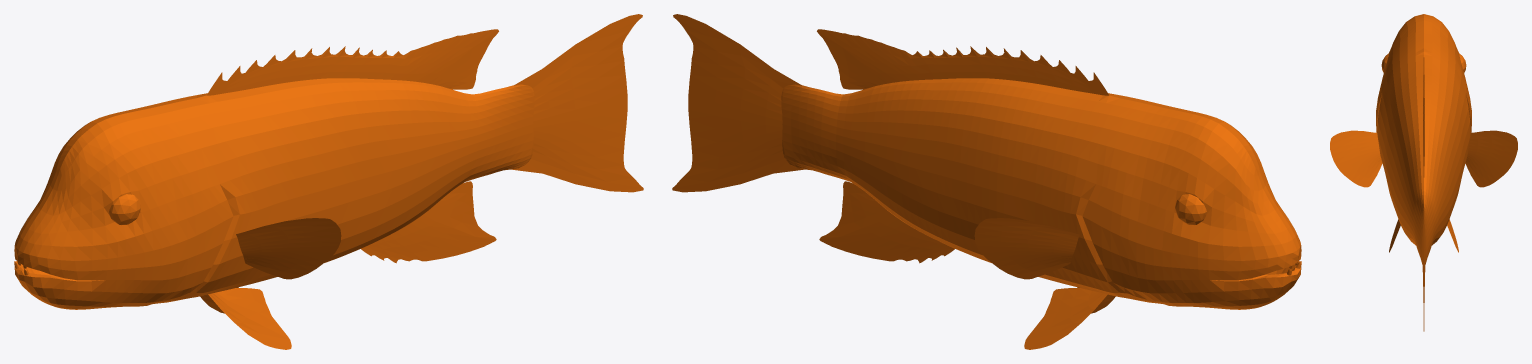
Rendered from Piraken.dae.
3 renders of one model, left to right at view 1: azimuth 30°, elevation 25°; view 2: azimuth 150°, elevation 25°; view 3: azimuth 270°, elevation 25°, orthographic. The views are drawn at different scales.
Visible parts, largest first — view 1: ___DUMMY_BODY01L, ___DUMMY_TAIL01L, ___DUMMY_BACK01L, ___DUMMY_HIP01L, ___DUMMY_BUST01L, ___DUMMY_WAIST01L, ___DUMMY_EYE01L; view 2: ___DUMMY_BODY01L, ___DUMMY_TAIL01L, ___DUMMY_BACK01L, ___DUMMY_HIP01L, ___DUMMY_BUST01R, ___DUMMY_WAIST01R, ___DUMMY_EYE01R; view 3: ___DUMMY_BODY01L, ___DUMMY_BUST01L, ___DUMMY_BUST01R, ___DUMMY_TAIL01L, ___DUMMY_BACK01L.
Boxes of the visible parts, bbox=[...] form: ___DUMMY_BODY01L: bbox=[14, 78, 534, 309]; ___DUMMY_TAIL01L: bbox=[510, 14, 643, 192]; ___DUMMY_BACK01L: bbox=[207, 29, 498, 95]; ___DUMMY_HIP01L: bbox=[361, 181, 496, 263]; ___DUMMY_BUST01L: bbox=[236, 218, 341, 279]; ___DUMMY_WAIST01L: bbox=[208, 288, 291, 349]; ___DUMMY_EYE01L: bbox=[109, 194, 140, 224]; ___DUMMY_BODY01L: bbox=[781, 78, 1301, 309]; ___DUMMY_TAIL01L: bbox=[672, 14, 805, 192]; ___DUMMY_BACK01L: bbox=[817, 29, 1108, 95]; ___DUMMY_HIP01L: bbox=[819, 181, 954, 263]; ___DUMMY_BUST01R: bbox=[974, 218, 1079, 279]; ___DUMMY_WAIST01R: bbox=[1024, 288, 1107, 349]; ___DUMMY_EYE01R: bbox=[1175, 194, 1206, 224]; ___DUMMY_BODY01L: bbox=[1376, 14, 1471, 264]; ___DUMMY_BUST01L: bbox=[1330, 130, 1382, 187]; ___DUMMY_BUST01R: bbox=[1465, 130, 1517, 187]; ___DUMMY_TAIL01L: bbox=[1422, 208, 1425, 331]; ___DUMMY_BACK01L: bbox=[1423, 57, 1424, 177].
Size of the model in its own units: 0.3993 by 0.1442 by 0.1673.
